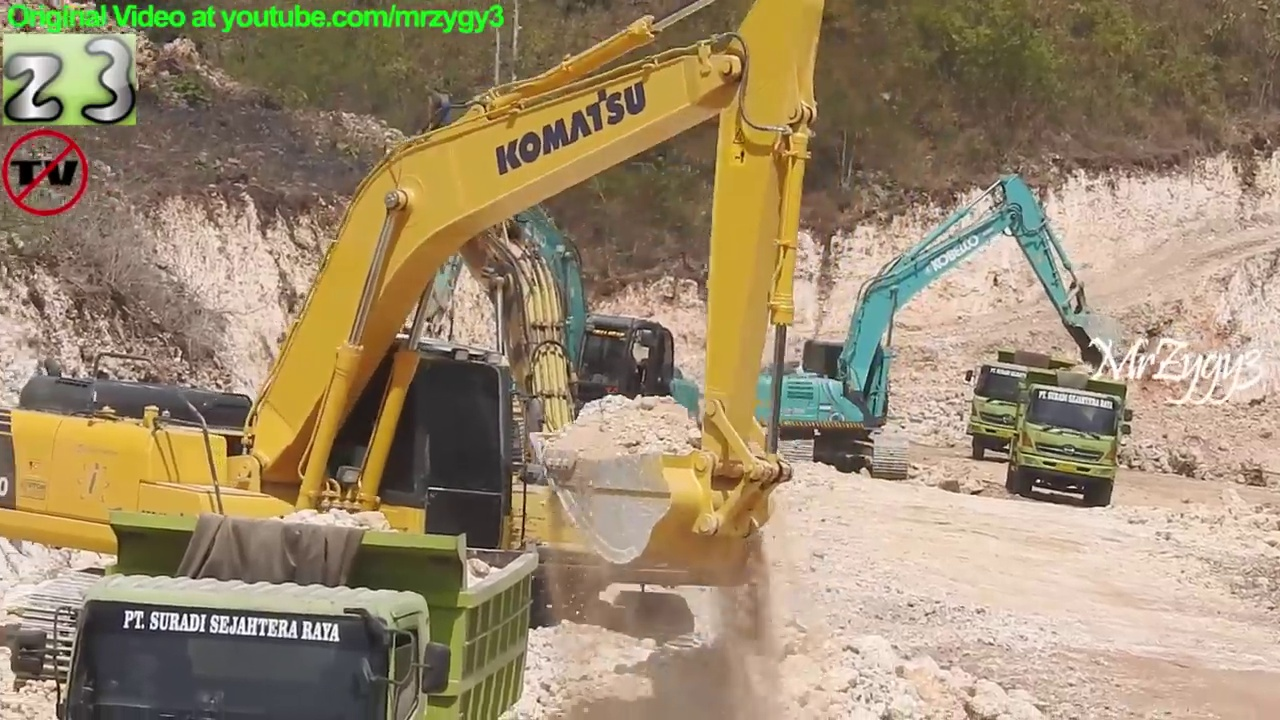excavator: (1, 1, 834, 720), (241, 86, 751, 672), (377, 85, 720, 537), (727, 168, 1136, 488)
truck: (7, 502, 547, 720), (999, 364, 1138, 512), (961, 347, 1095, 471)
